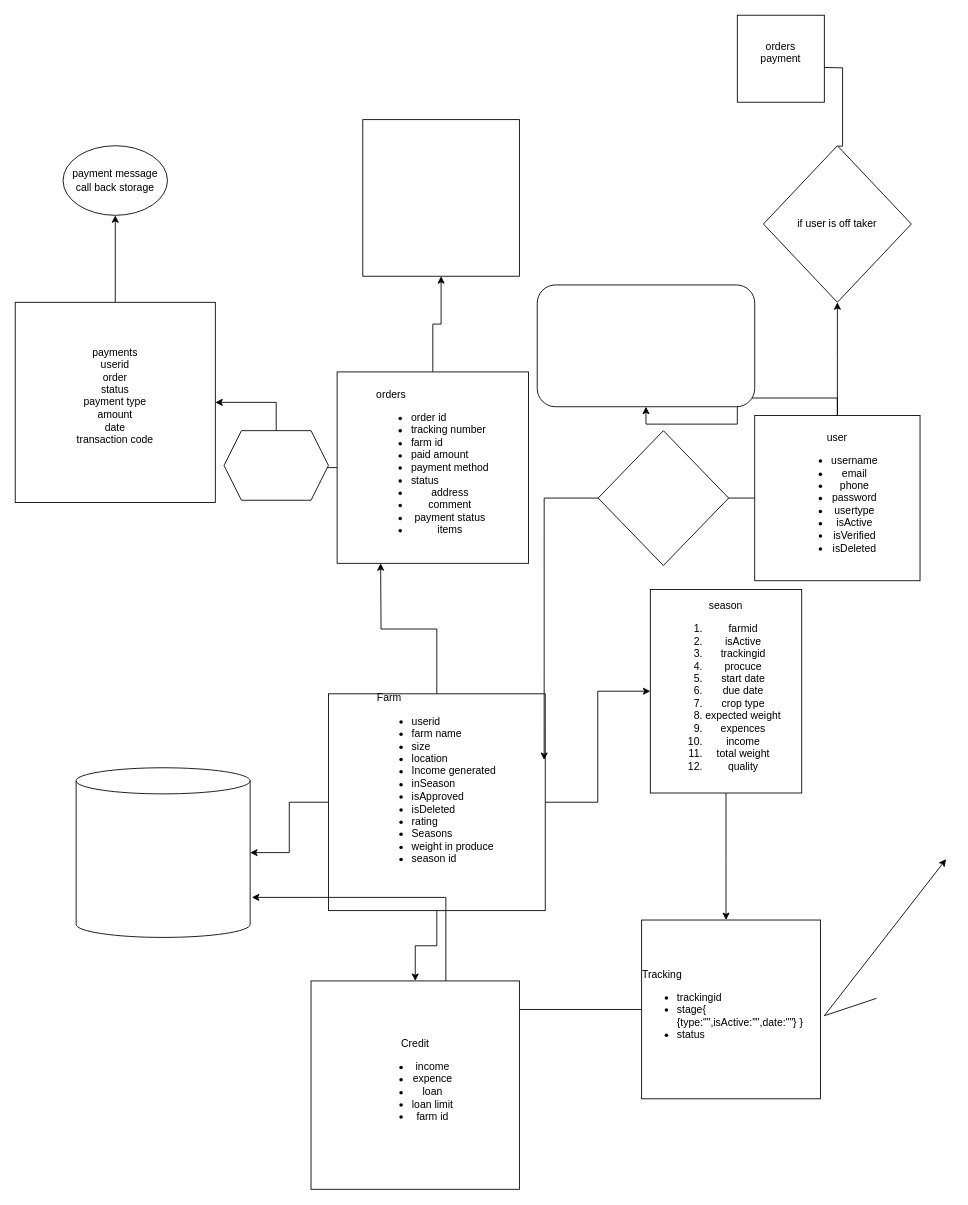
The diagram is 968 pixels wide and 1205 high, and some of its shapes have lost their labels. Here are the shapes that lost their labels. From the top down, the centre of each, then its label:
At [440,197]: "Order tracking stage time orderid status method of delivary contact person".
At [645,345]: "user roles userid role previlages".
At [275,465]: "Escrow".
At [663,498]: "Roles if user is farmerf".
At [162,852]: "produce type farm id quality quantity".
